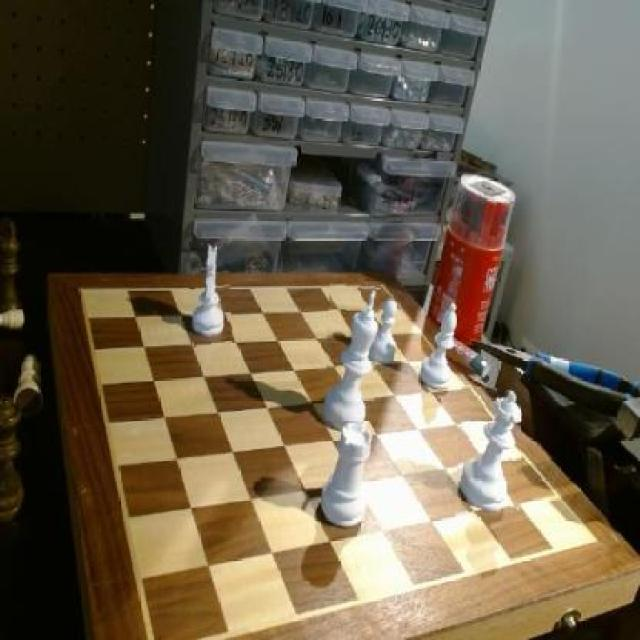black-rook: (420, 302, 462, 396)
white-bishop: (324, 280, 378, 438)
white-king: (188, 238, 232, 348)
white-knight: (368, 296, 399, 372)
white-pawn: (456, 386, 522, 519)
white-queen: (320, 420, 375, 535)
